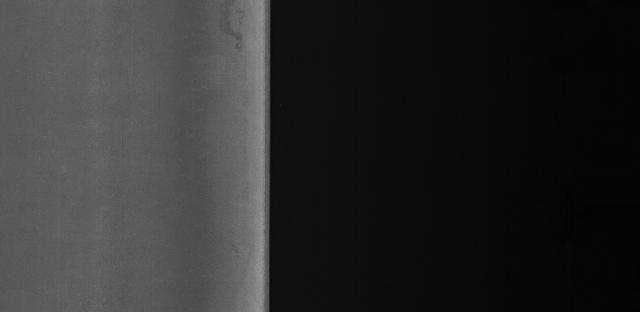water_spot: (205, 2, 255, 65)
